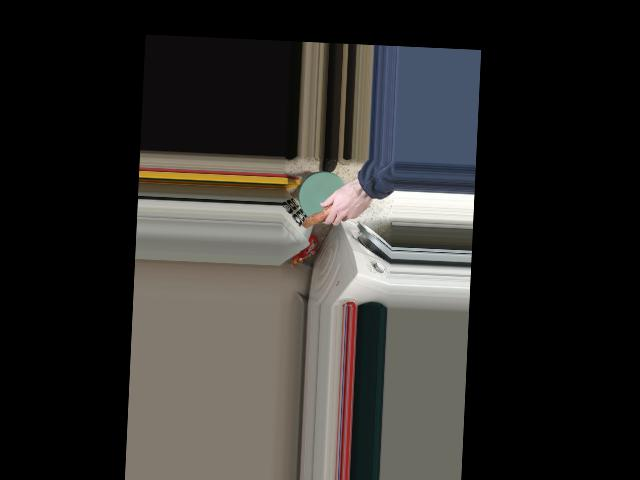sweet_potato: (304, 189, 356, 230)
